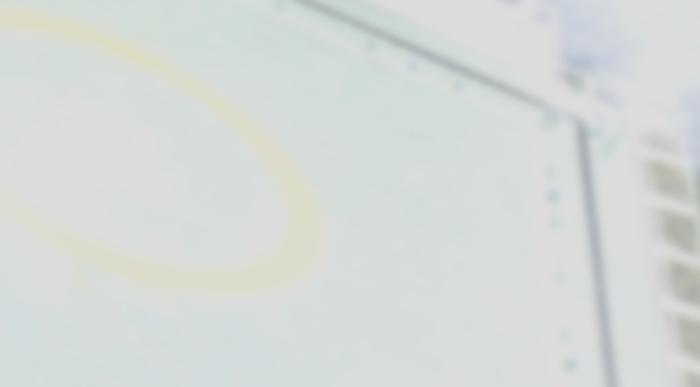Apron: (1, 10, 333, 274)
